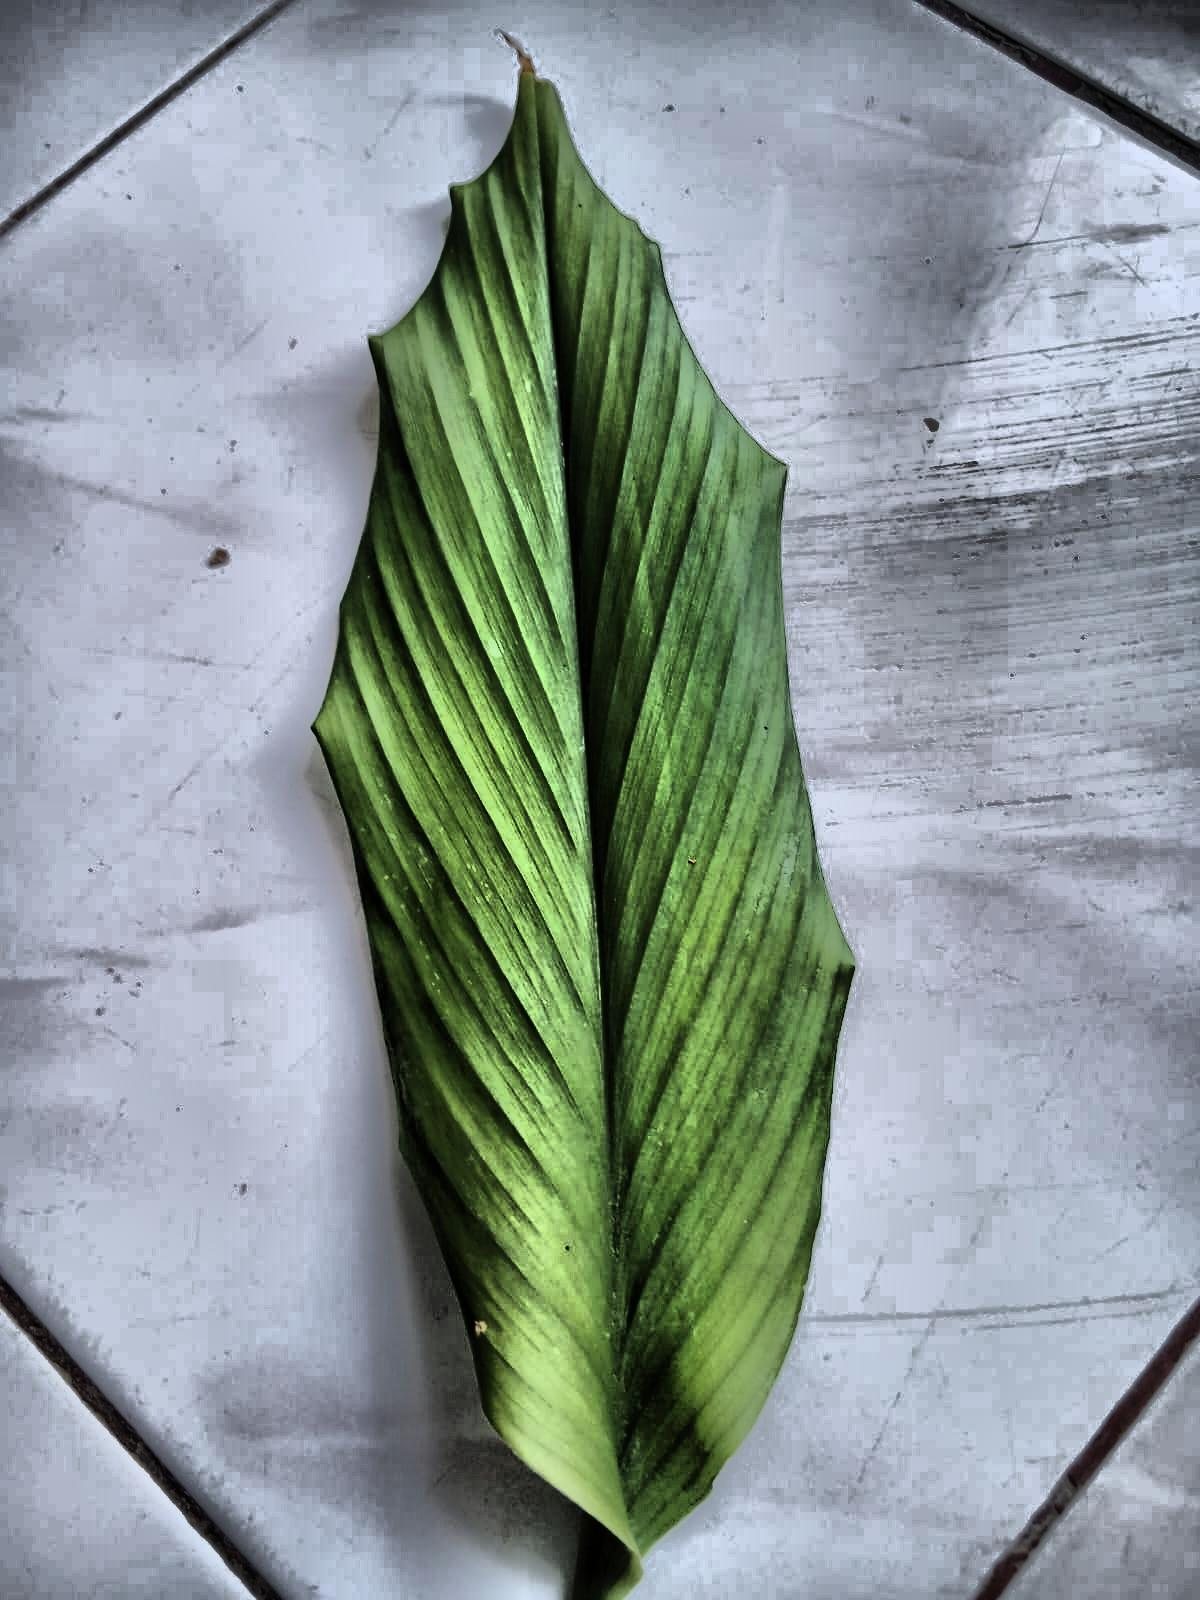daun kunyit: (314, 60, 855, 1599)
